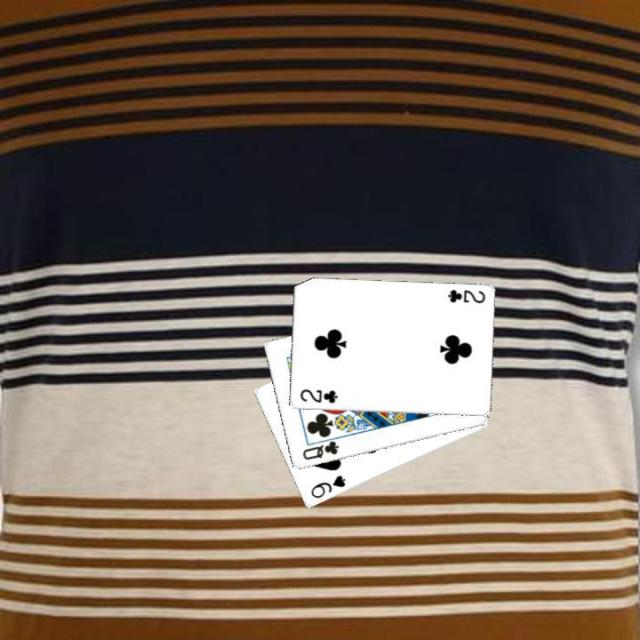2C: (296, 386, 339, 405), (444, 286, 486, 305)
9S: (306, 471, 348, 501)
QC: (298, 438, 340, 462)
